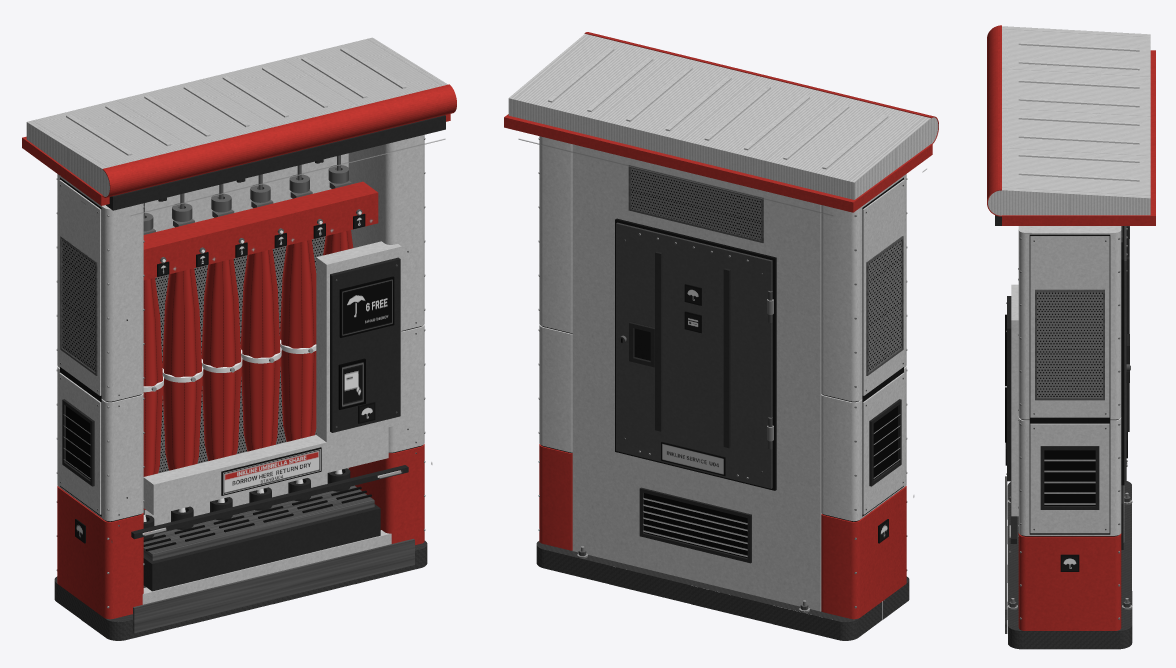
File: umbrellastand-D7pe_0HB.glb
3 views of the same model, side by side, from view 1: azimuth 30°, elevation 25°; view 2: azimuth 150°, elevation 25°; view 3: azimuth 270°, elevation 25° (orthographic). The views are drawn at different scales.
Visible parts, largest first — view 1: body, glow, farBaked; view 2: body; view 3: body.
Boxes of the visible parts, <box> form: body: <box>22,37,456,640</box>; glow: <box>142,211,400,535</box>; farBaked: <box>81,139,445,542</box>; body: <box>504,32,938,640</box>; body: <box>987,25,1155,649</box>.
Size of the model in its own units: 1.1 by 1.43 by 0.5.
Materials: 3 (3 with a texture image).
